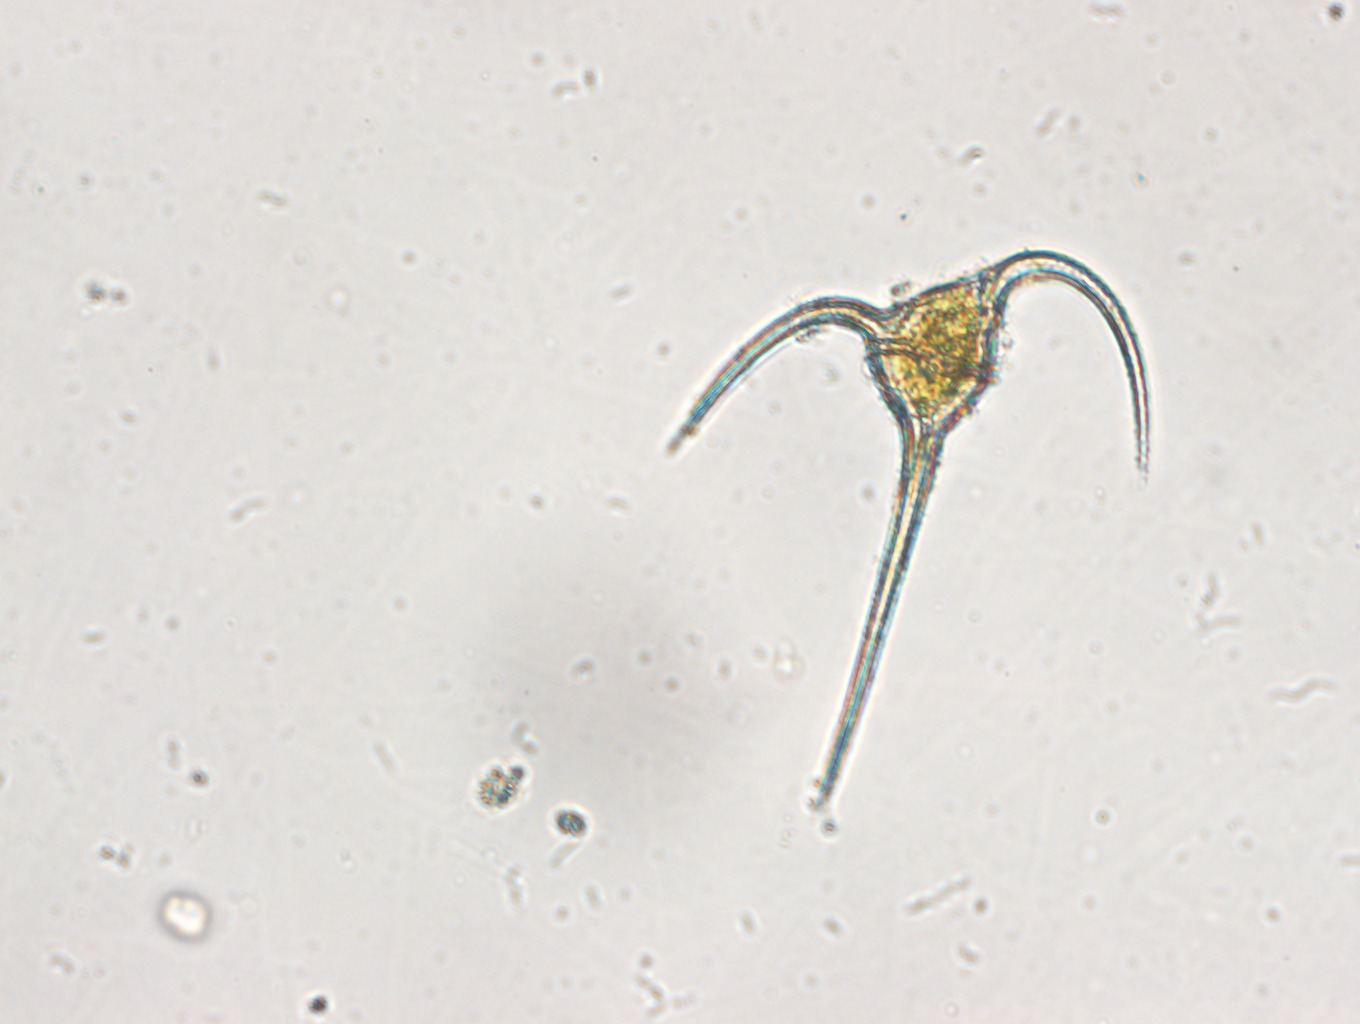ceratium trichoceros: (650, 241, 1158, 809)
